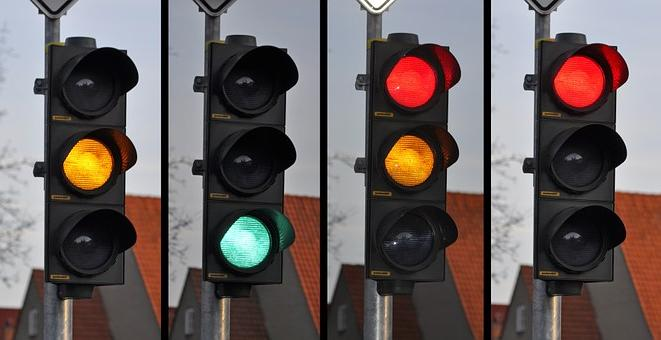trafic: (45, 43, 127, 284), (205, 41, 287, 282), (371, 38, 453, 279), (536, 40, 618, 281)
